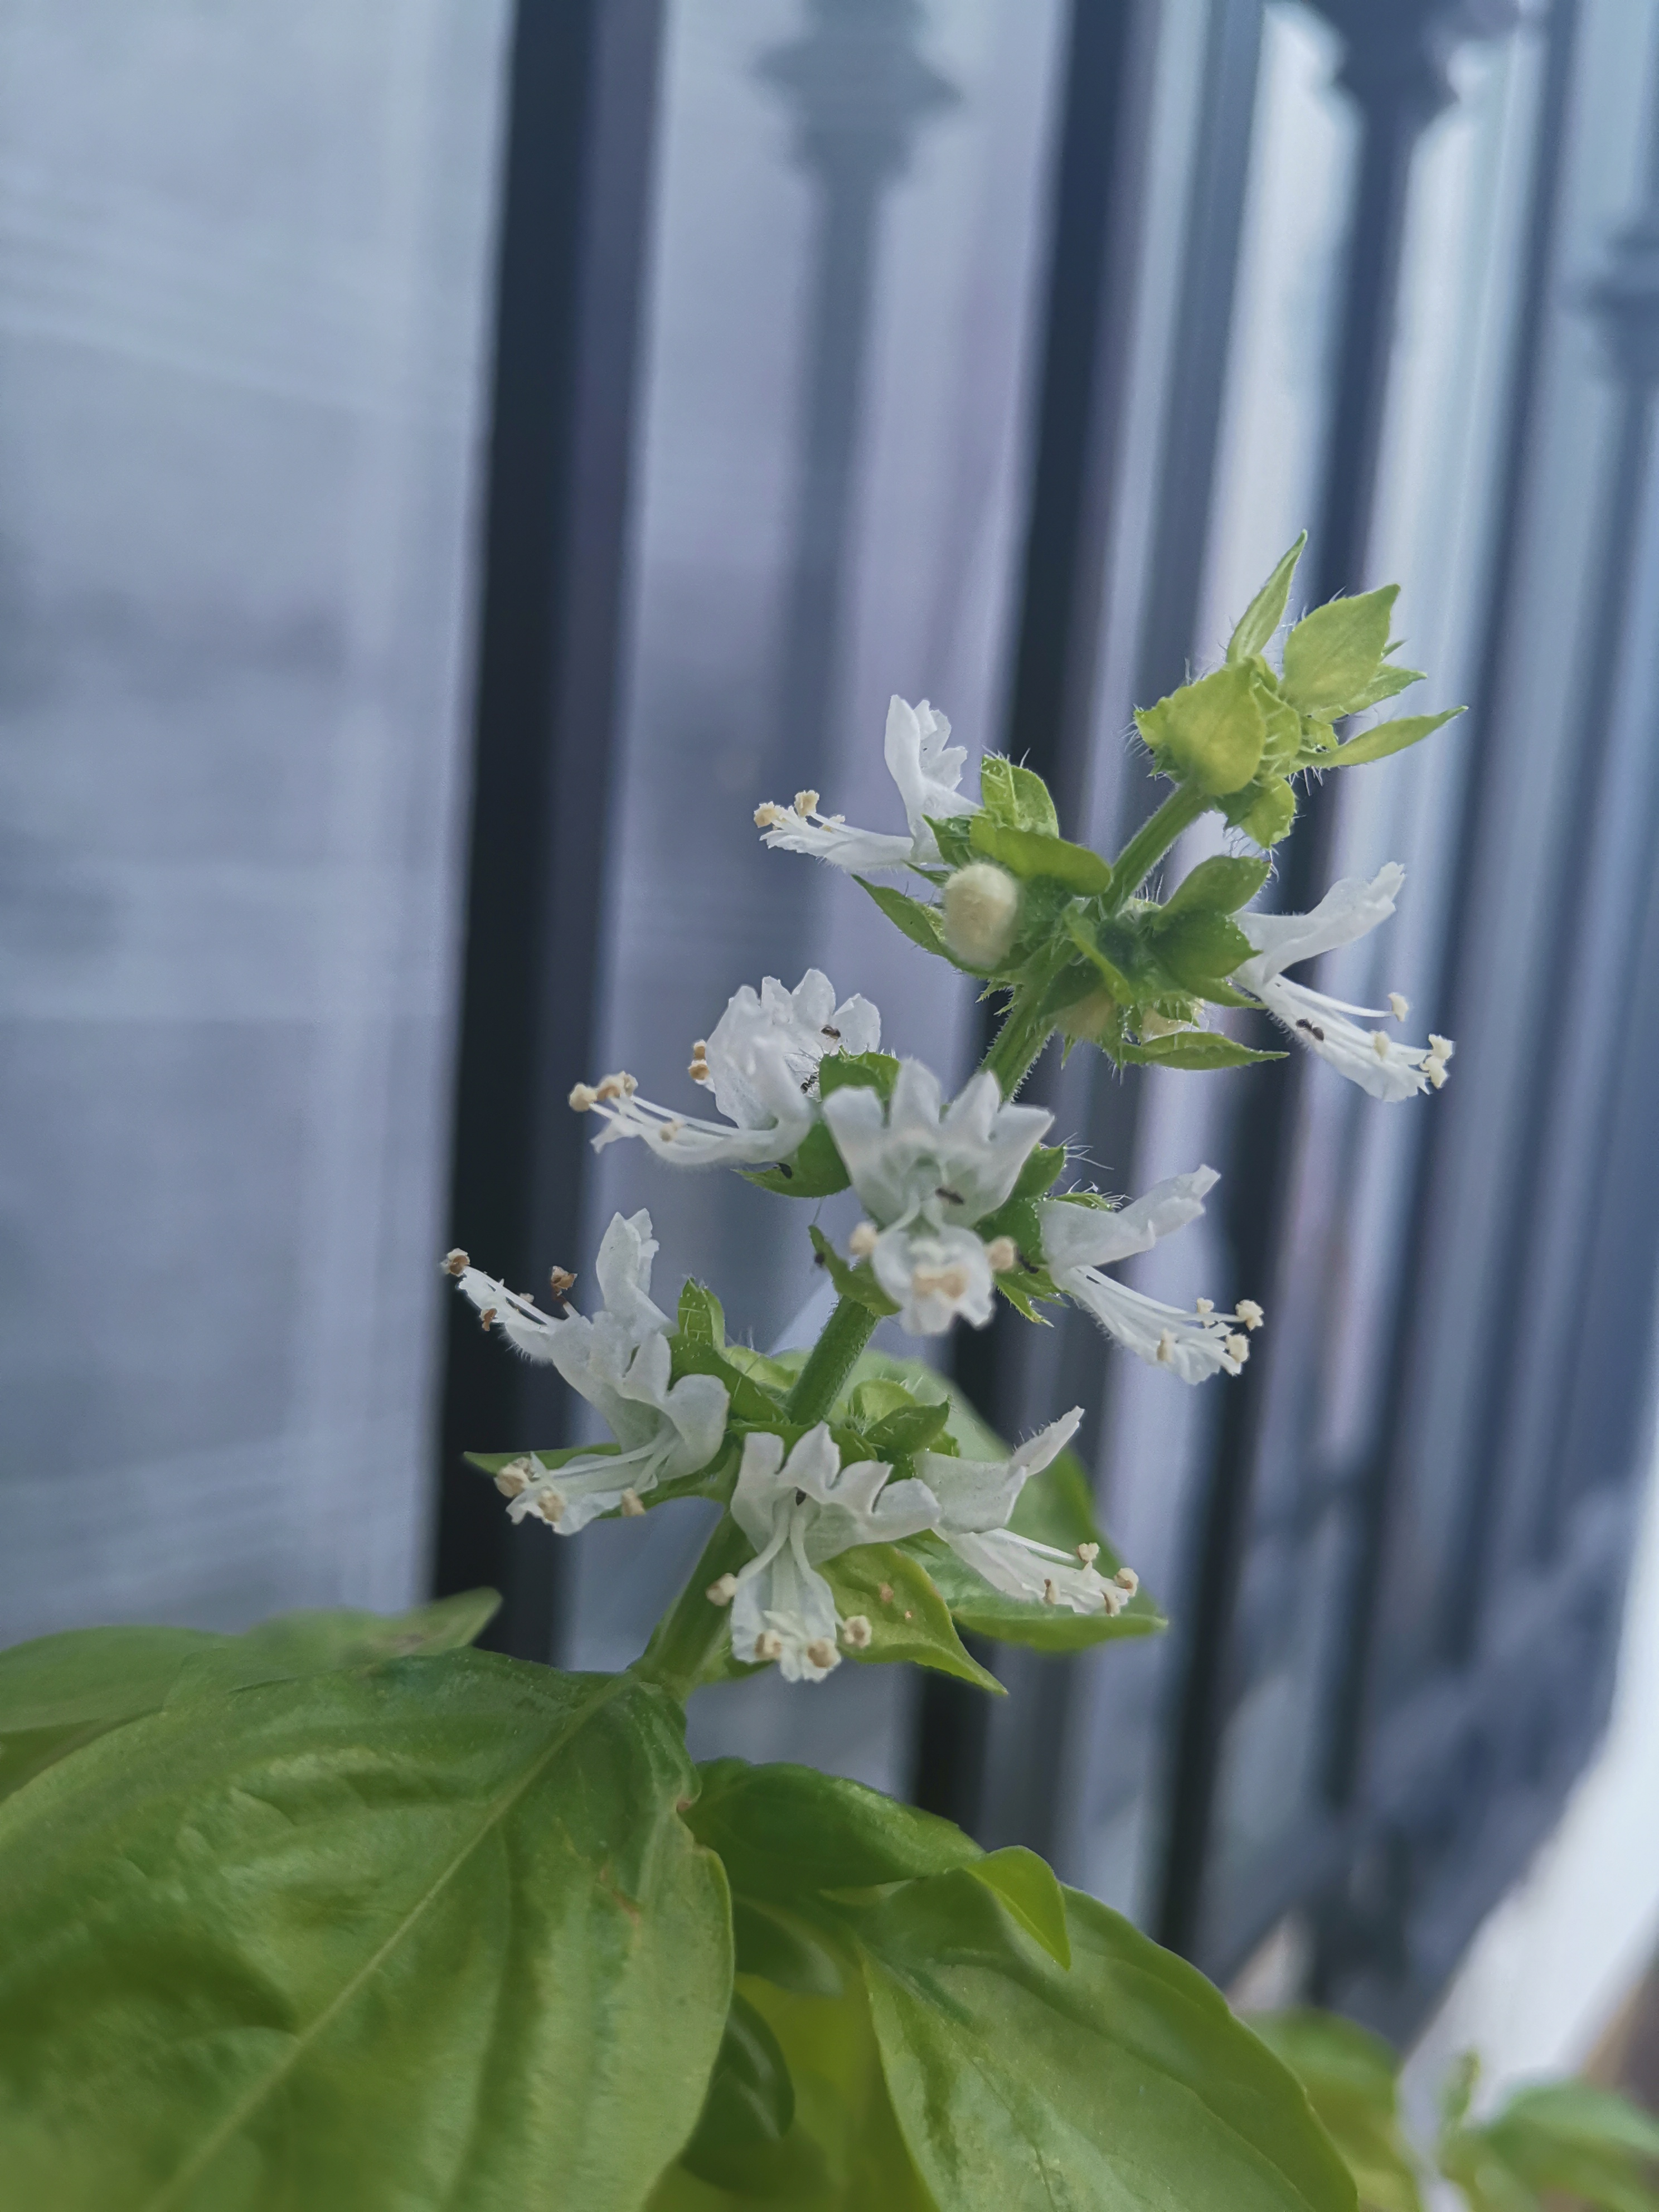Basil_healthy: (0, 1629, 816, 2212), (592, 1757, 1330, 2210)
